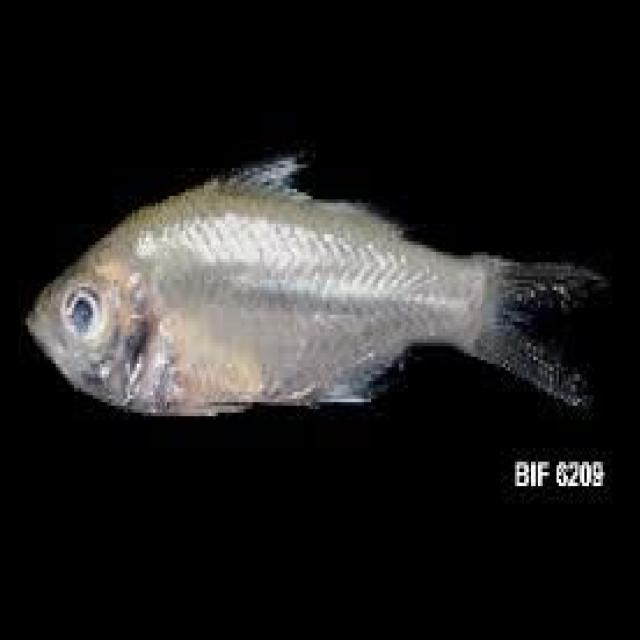Glass-Perchlet: (0, 85, 617, 483)
